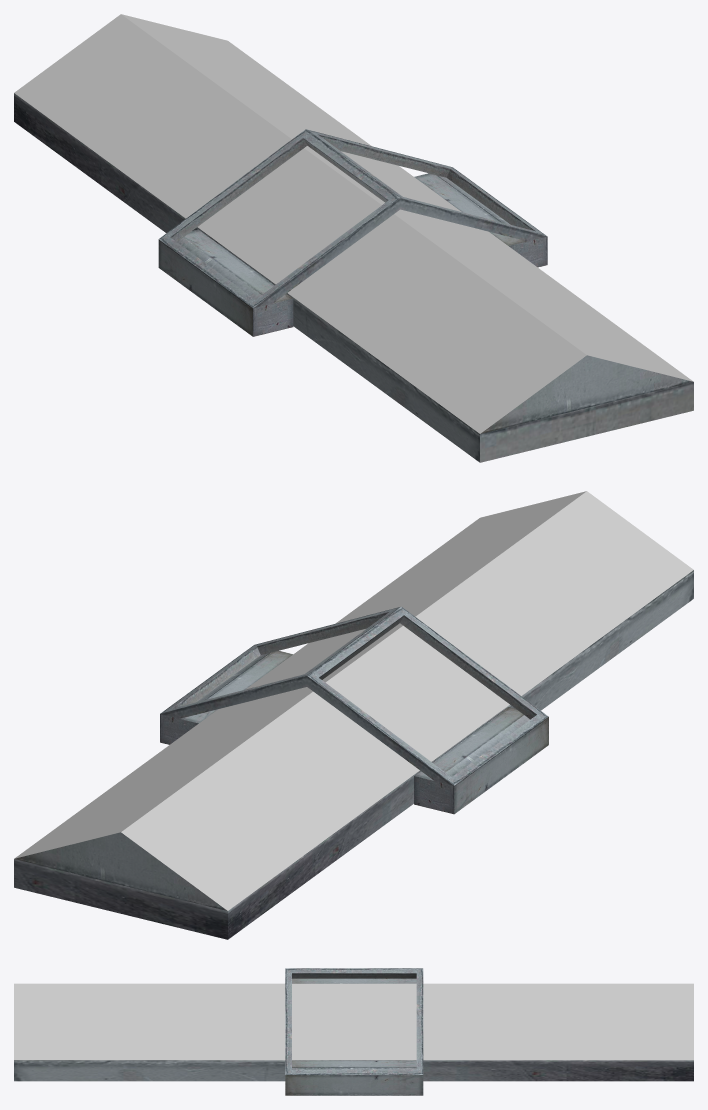
File: Long_window.fbx
The picture shows the model from 3 angles, top to bottom: view 1: azimuth 30°, elevation 25°; view 2: azimuth 150°, elevation 25°; view 3: azimuth 270°, elevation 25°; orthographic projection. The views are drawn at different scales.
Visible parts, largest first — view 1: Long_window; view 2: Long_window; view 3: Long_window.
Part boxes in pixels (x1,y1,x2,y2): Long_window: (14,14,693,462); Long_window: (14,491,693,939); Long_window: (14,968,693,1095).
Size of the model in its own units: 449 by 150 by 1232.
